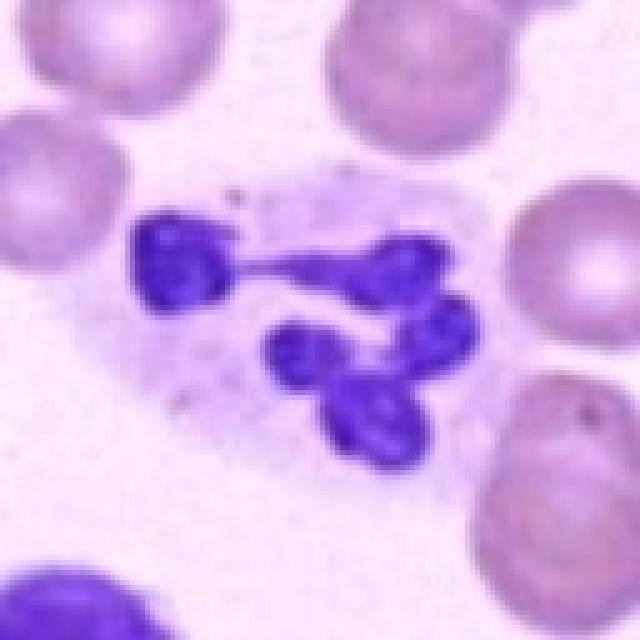neutro: (40, 167, 608, 514)
